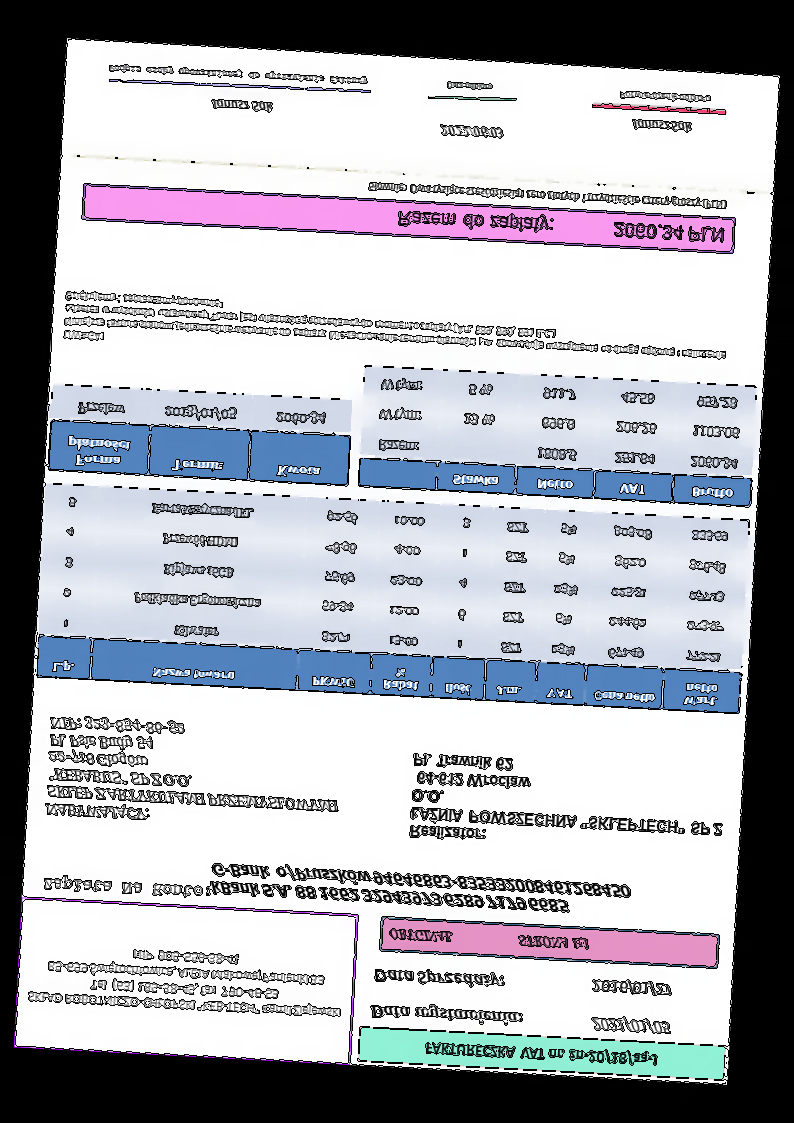Table: (34, 480, 751, 717), (357, 363, 760, 509), (47, 383, 352, 488)
TextBox: (62, 289, 730, 376), (43, 710, 346, 834), (406, 747, 731, 855), (25, 936, 348, 1023), (209, 860, 634, 917), (396, 207, 726, 246), (366, 178, 731, 213), (421, 1037, 660, 1071), (104, 61, 369, 86), (387, 924, 593, 952), (368, 997, 523, 1029), (41, 874, 213, 901), (369, 963, 507, 991), (589, 1012, 673, 1038), (590, 977, 673, 1000), (207, 94, 275, 117), (617, 89, 714, 104), (437, 122, 506, 140), (629, 117, 694, 134), (443, 79, 496, 93)
